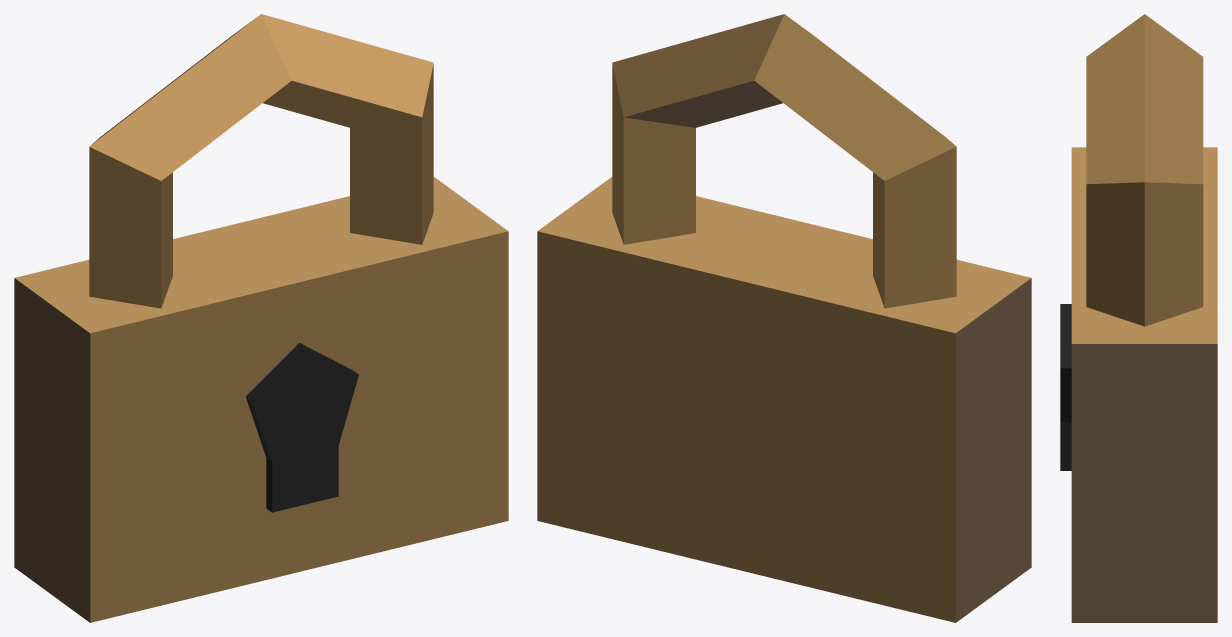
Rendered from TB_D_Prop_Chest_Lock_B.FBX.
The picture shows the model from 3 angles, left to right: view 1: azimuth 30°, elevation 25°; view 2: azimuth 150°, elevation 25°; view 3: azimuth 270°, elevation 25°; orthographic projection. The views are drawn at different scales.
Visible parts, largest first — view 1: TB_D_Prop_Chest_Lock_B; view 2: TB_D_Prop_Chest_Lock_B; view 3: TB_D_Prop_Chest_Lock_B.
Part boxes in pixels (x1,y1,x2,y2): TB_D_Prop_Chest_Lock_B: (14,14,508,622); TB_D_Prop_Chest_Lock_B: (537,14,1031,622); TB_D_Prop_Chest_Lock_B: (1060,14,1217,622).
Bounding box in the file's own units: 0.2268 × 0.2746 × 0.0768.
